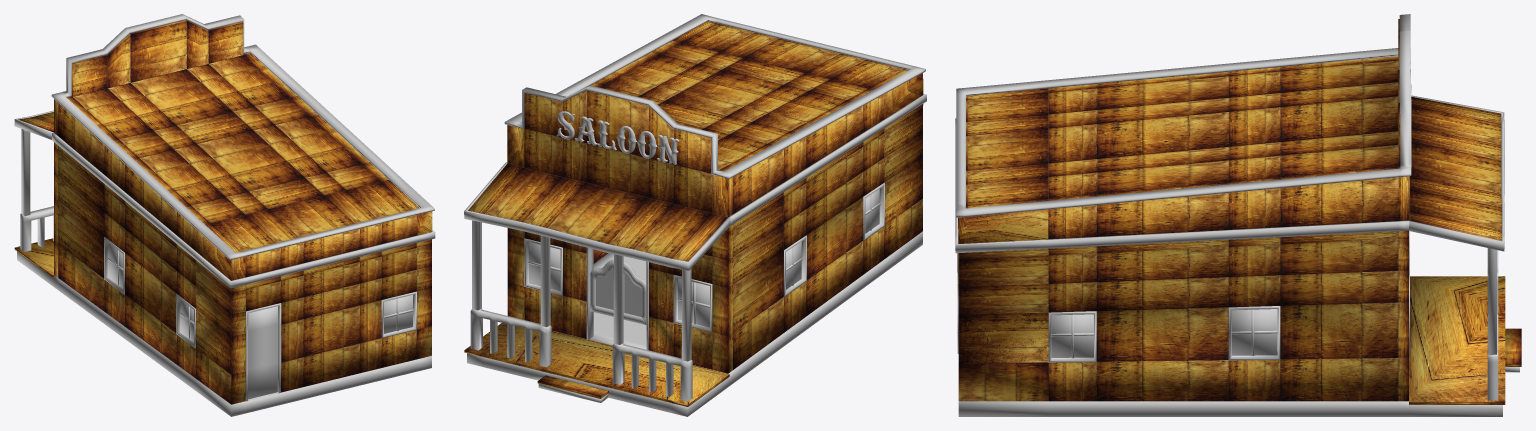
Rendered from saloon.fbx.
3 renders of one model, left to right at view 1: azimuth 30°, elevation 25°; view 2: azimuth 150°, elevation 25°; view 3: azimuth 270°, elevation 25°, orthographic. The views are drawn at different scales.
Parts seen in each view (by area): view 1: saloon_default, rooftrim_default, foundation_default, midtrims_default, reardoor_default, frames_default, glass_default, porchrails_default, colums_default, porchfloor_default, aleron_default; view 2: saloon_default, aleron_default, porchfloor_default, rooftrim_default, foundation_default, midtrims_default, porchrails_default, colums_default, frames_default, glass_default, sign_default, floor_default (+2 smaller); view 3: saloon_default, porchfloor_default, aleron_default, rooftrim_default, foundation_default, midtrims_default, glass_default, frames_default, porchrails_default, colums_default.
Boxes of the visible parts, x1,y1,x2,y2 form: saloon_default: (54, 20, 432, 404); rooftrim_default: (51, 14, 434, 260); foundation_default: (17, 251, 431, 416); midtrims_default: (14, 110, 435, 288); reardoor_default: (248, 306, 277, 399); frames_default: (104, 237, 416, 401); glass_default: (108, 243, 412, 341); porchrails_default: (20, 206, 53, 251); colums_default: (21, 129, 30, 216); porchfloor_default: (14, 238, 53, 277); aleron_default: (18, 112, 53, 132); saloon_default: (507, 21, 923, 373); aleron_default: (468, 163, 727, 261); porchfloor_default: (464, 323, 729, 406); rooftrim_default: (504, 14, 925, 178); foundation_default: (467, 231, 922, 416); midtrims_default: (464, 94, 926, 270); porchrails_default: (470, 308, 692, 401); colums_default: (472, 220, 691, 361); frames_default: (524, 182, 884, 350); glass_default: (528, 189, 879, 327); sign_default: (556, 111, 679, 164); floor_default: (589, 253, 646, 349); saloon_default: (958, 19, 1409, 401); porchfloor_default: (1409, 276, 1521, 404); aleron_default: (1409, 97, 1501, 240); rooftrim_default: (955, 14, 1411, 217); foundation_default: (958, 367, 1519, 416); midtrims_default: (955, 95, 1504, 253); glass_default: (1051, 309, 1277, 357); frames_default: (957, 231, 1409, 362); porchrails_default: (1487, 248, 1498, 400); colums_default: (1488, 248, 1496, 355).
Bounding box in the file's own units: 3.47 × 3.9 × 6.53.
